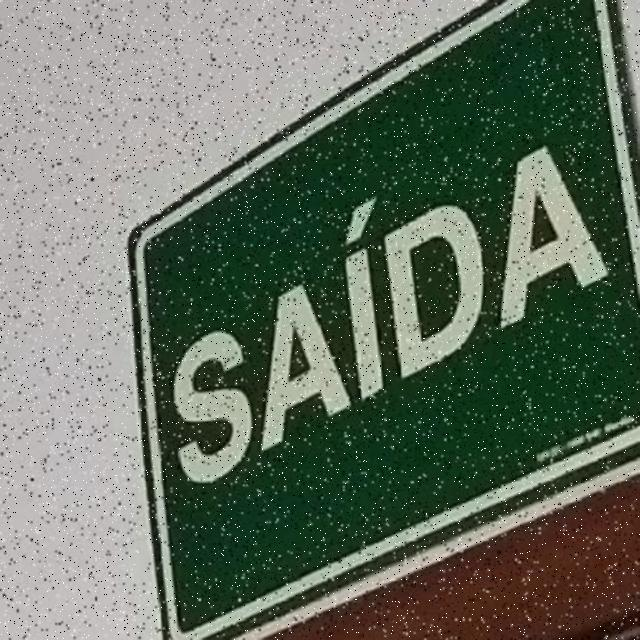emergency_exit: (126, 0, 639, 639)
